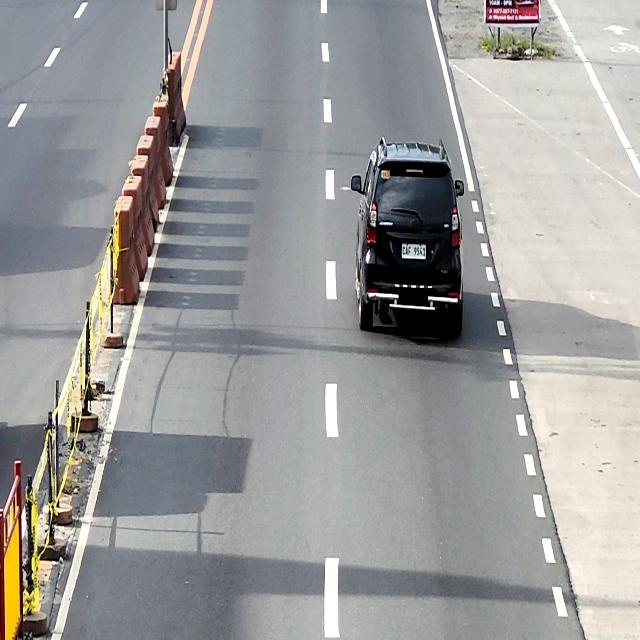Car: (350, 136, 465, 335)
License-Plate: (400, 240, 427, 260)
